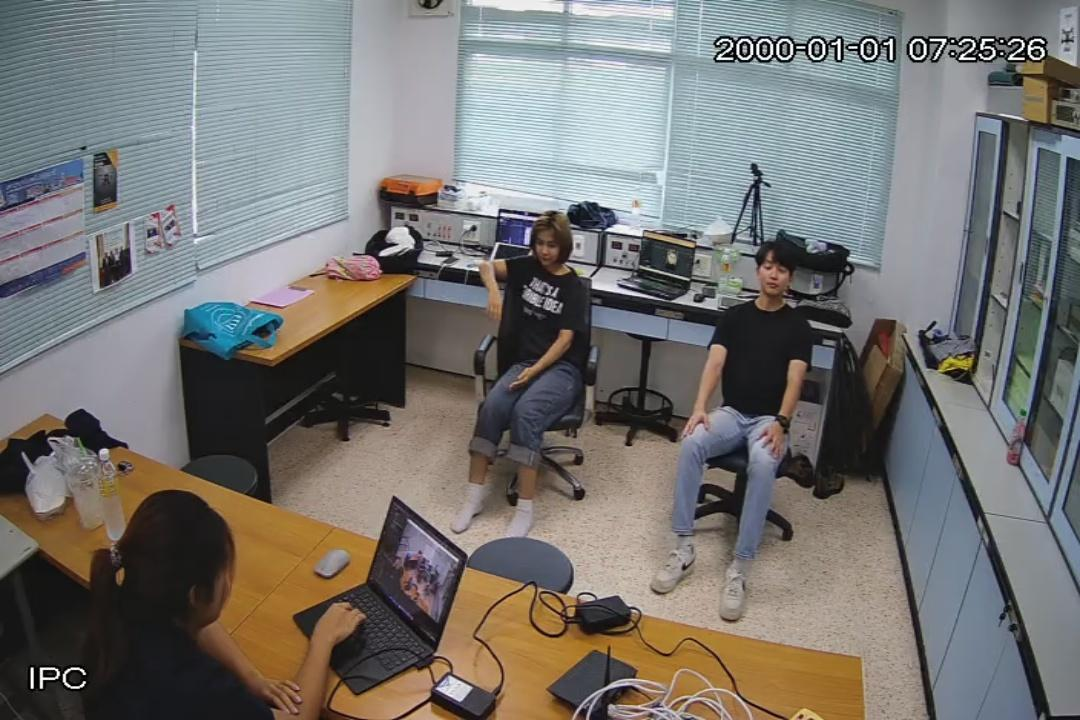normal: (650, 236, 826, 622), (448, 206, 592, 542)
